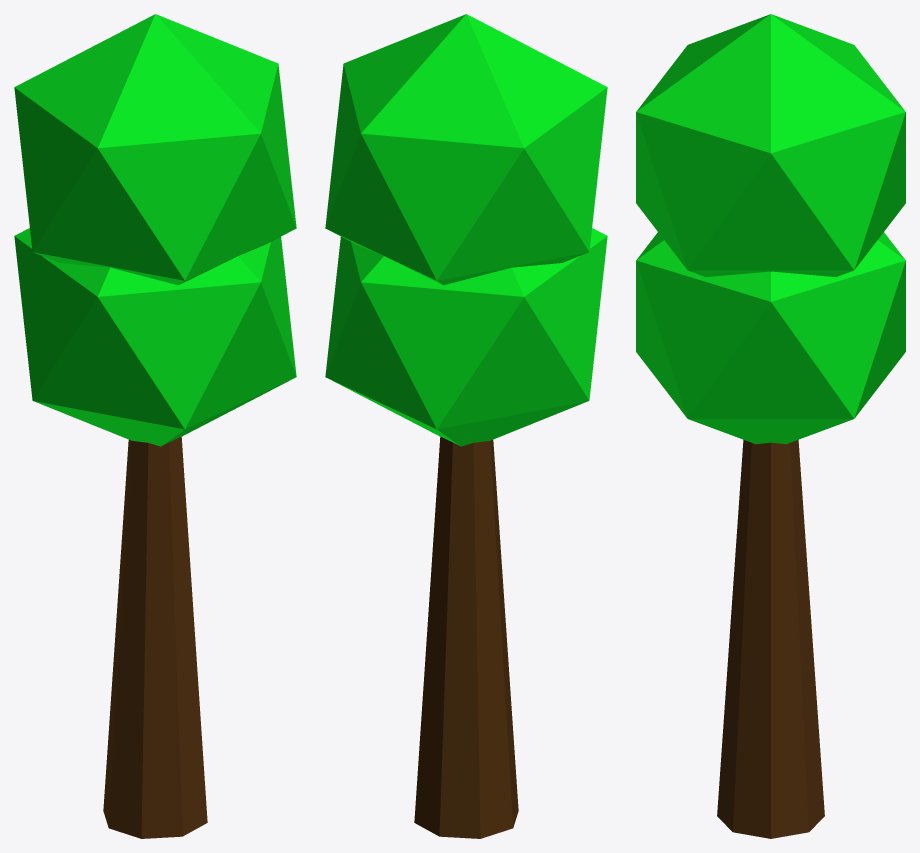
The model's file is stump_3.glb.
The picture shows the model from 3 angles, left to right: view 1: azimuth 30°, elevation 25°; view 2: azimuth 150°, elevation 25°; view 3: azimuth 270°, elevation 25°; orthographic projection.
Parts seen in each view (by area): view 1: BushTop, Bushes, Trunk; view 2: BushTop, Bushes, Trunk; view 3: BushTop, Bushes, Trunk.
Boxes of the visible parts, x1=… form: BushTop: x1=14, y1=14, x2=296, y2=285; Bushes: x1=14, y1=228, x2=296, y2=446; Trunk: x1=103, y1=436, x2=207, y2=838; BushTop: x1=325, y1=14, x2=607, y2=285; Bushes: x1=325, y1=228, x2=607, y2=446; Trunk: x1=414, y1=436, x2=518, y2=838; BushTop: x1=636, y1=14, x2=905, y2=276; Bushes: x1=636, y1=232, x2=905, y2=444; Trunk: x1=717, y1=440, x2=824, y2=838.
Size of the model in its own units: 1.79 by 5.58 by 1.7.
